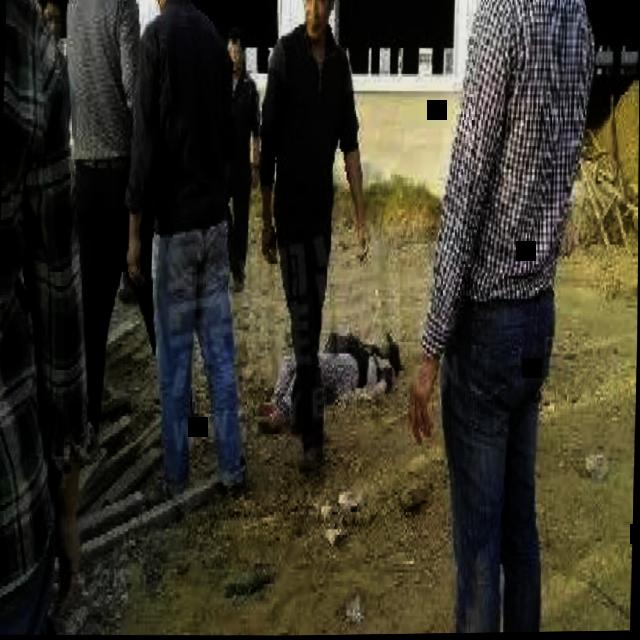Fall-Detected: (240, 294, 405, 443)
